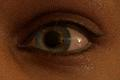eye: (36, 26, 71, 52)
